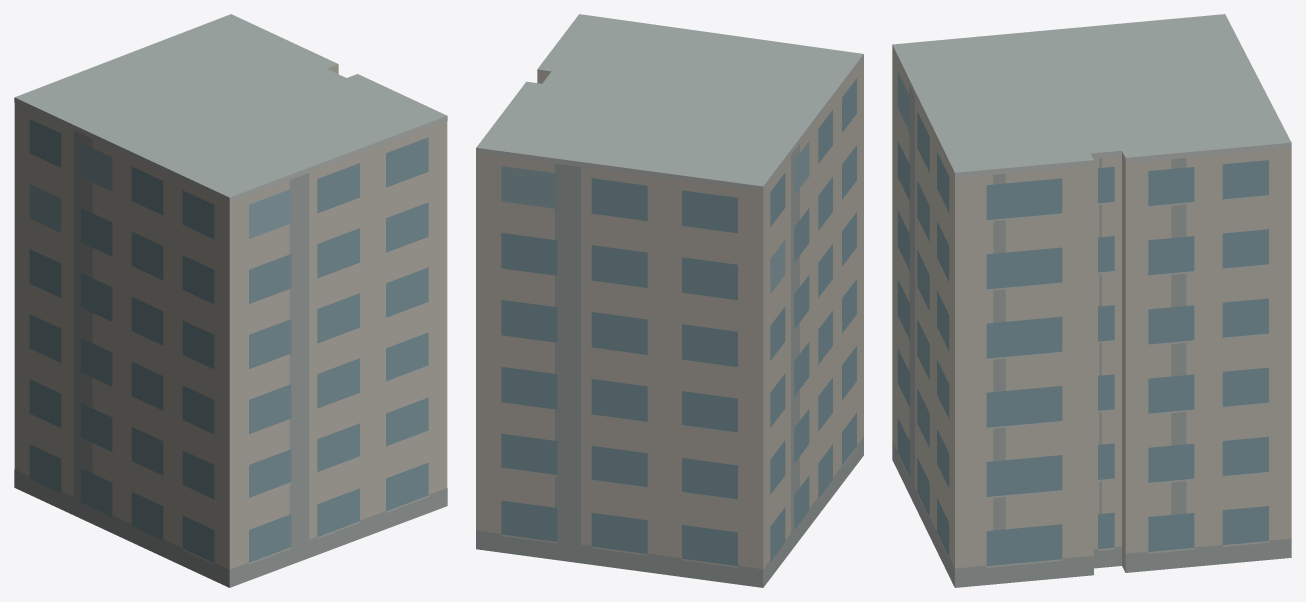
File: survey-upis-32495252.glb
The picture shows the model from 3 angles, left to right: view 1: azimuth 30°, elevation 25°; view 2: azimuth 150°, elevation 25°; view 3: azimuth 270°, elevation 25°; orthographic projection. The views are drawn at different scales.
Parts seen in each view (by area): view 1: survey-upis-32495252.tmp; view 2: survey-upis-32495252.tmp; view 3: survey-upis-32495252.tmp.
Part boxes in pixels (left/top/right/bottom): survey-upis-32495252.tmp: left=14, top=14, right=447, bottom=587; survey-upis-32495252.tmp: left=476, top=14, right=863, bottom=587; survey-upis-32495252.tmp: left=892, top=14, right=1291, bottom=587.
Bounding box in the file's own units: 15.19 × 18.5 × 16.14.
